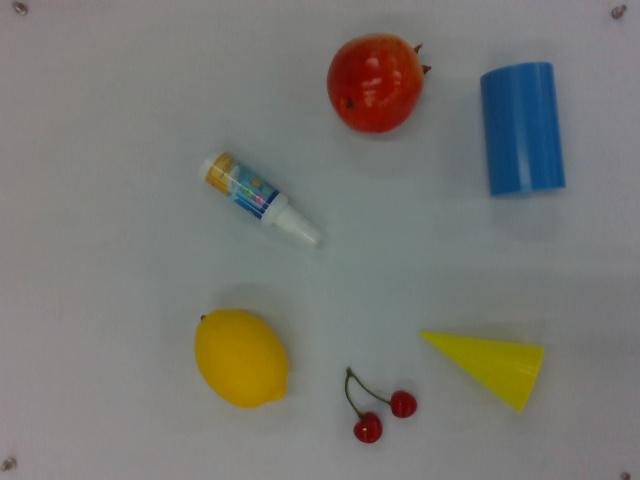cherry: (340, 361, 421, 448)
cone: (418, 327, 550, 418)
cylinder: (477, 60, 567, 200)
detergent: (196, 143, 324, 252)
lemon: (187, 301, 299, 416)
pomegranate: (326, 29, 430, 139)
